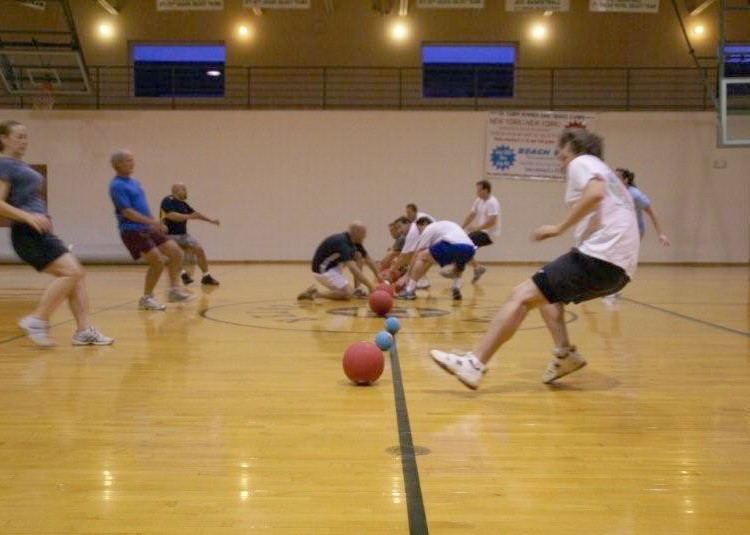blue ball: (375, 330, 394, 349), (384, 316, 400, 332)
red ball: (340, 340, 384, 385), (369, 288, 396, 315)
